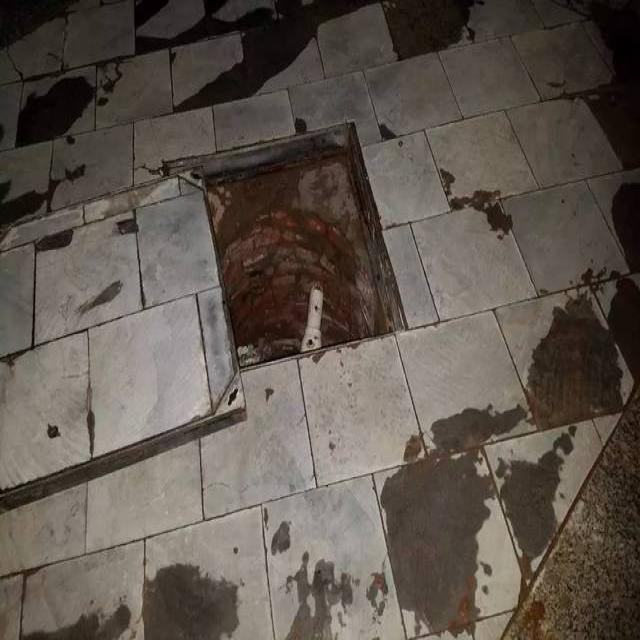manhole: (165, 125, 402, 366)
